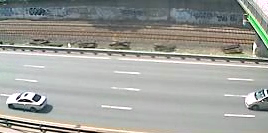car: (3, 90, 54, 113)
